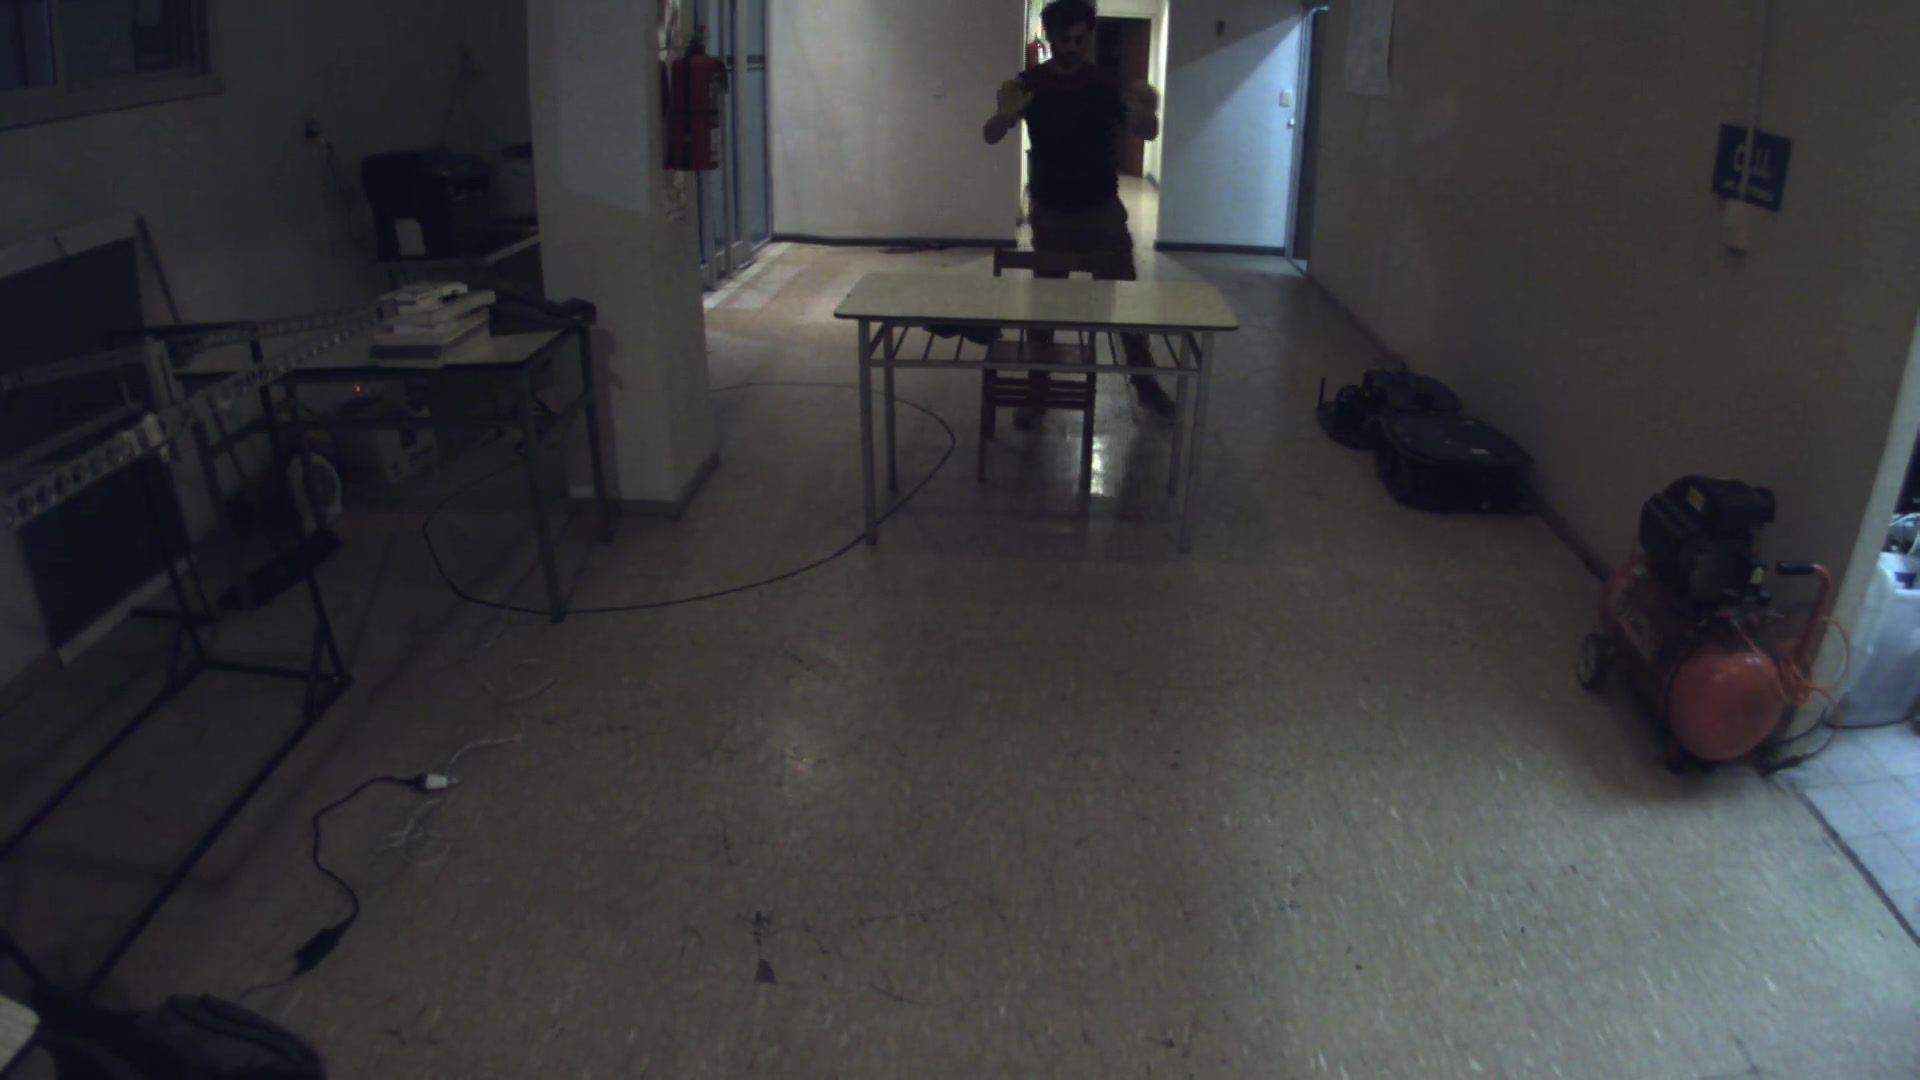hand: (1118, 76, 1176, 123), (996, 73, 1038, 123)
